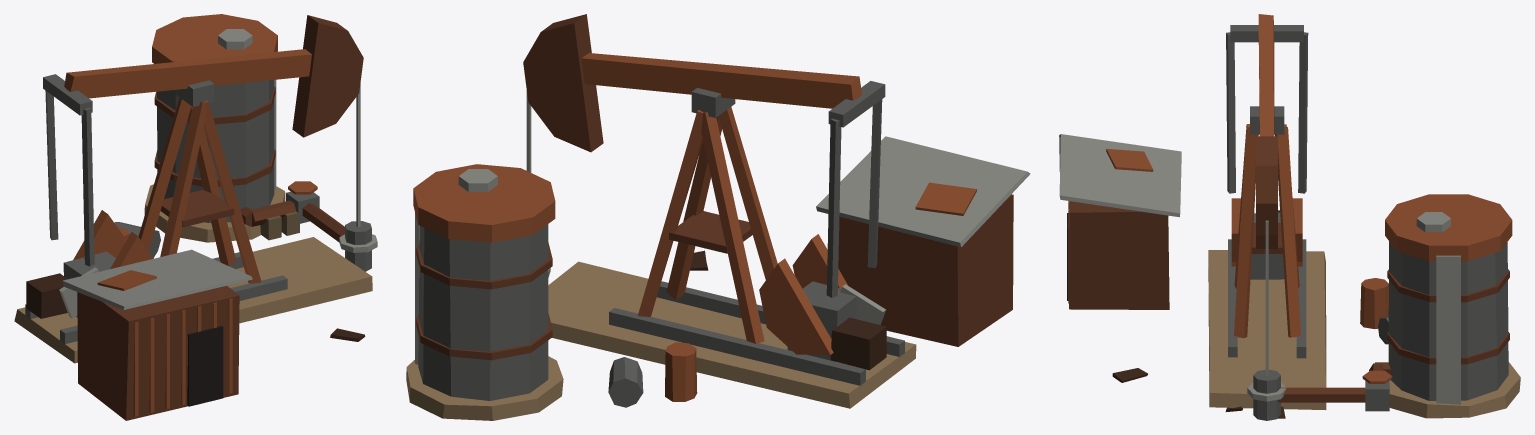
File: pump_station.glb
3 views of the same model, side by side, from view 1: azimuth 30°, elevation 25°; view 2: azimuth 150°, elevation 25°; view 3: azimuth 270°, elevation 25° (orthographic). The views are drawn at different scales.
Parts seen in each view (by area): view 1: pump_station; view 2: pump_station; view 3: pump_station.
Part boxes in pixels (left/top/right/bottom): pump_station: left=14, top=14, right=377, bottom=420; pump_station: left=406, top=14, right=1030, bottom=420; pump_station: left=1059, top=14, right=1520, bottom=420.
Size of the model in its own units: 8.33 by 5.98 by 9.41.
